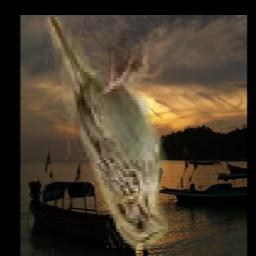Sparrow: (43, 18, 168, 251)
